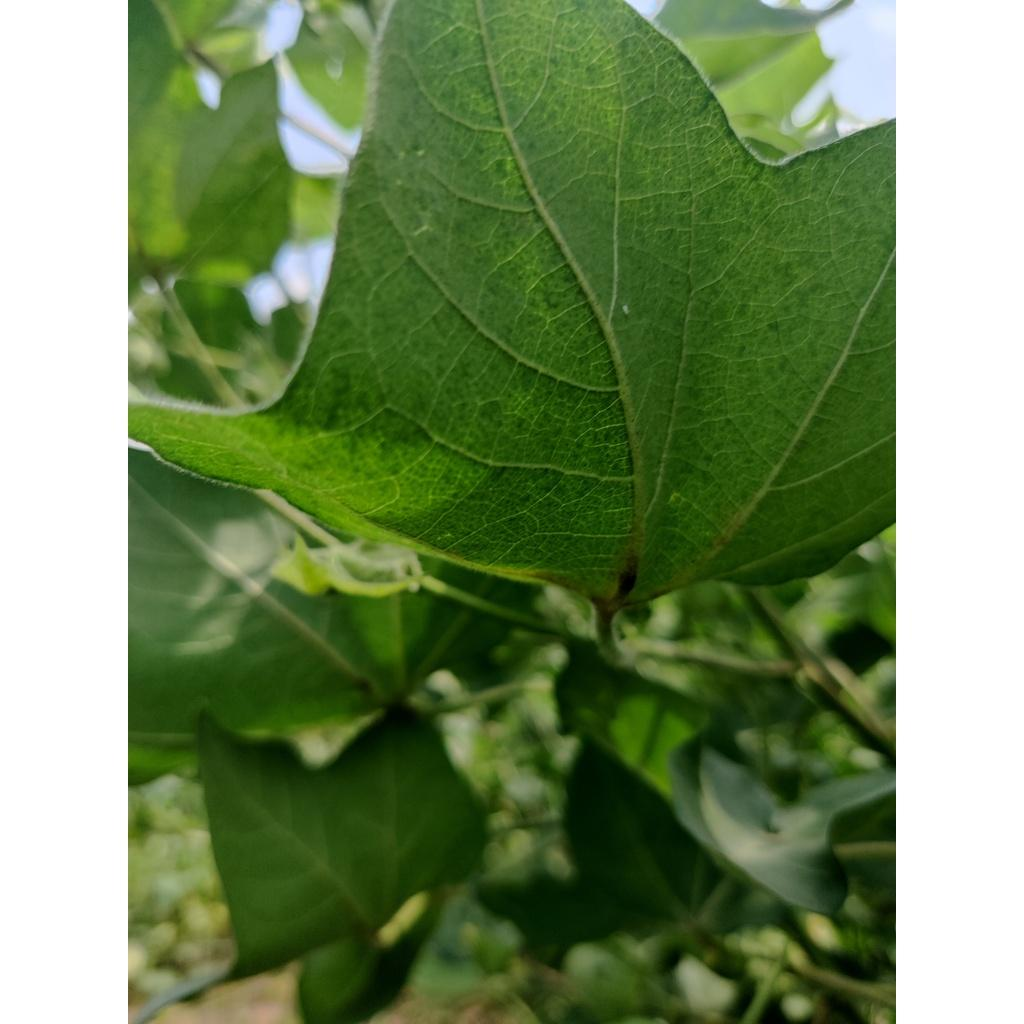adult: (621, 304, 630, 314), (417, 148, 426, 156)
